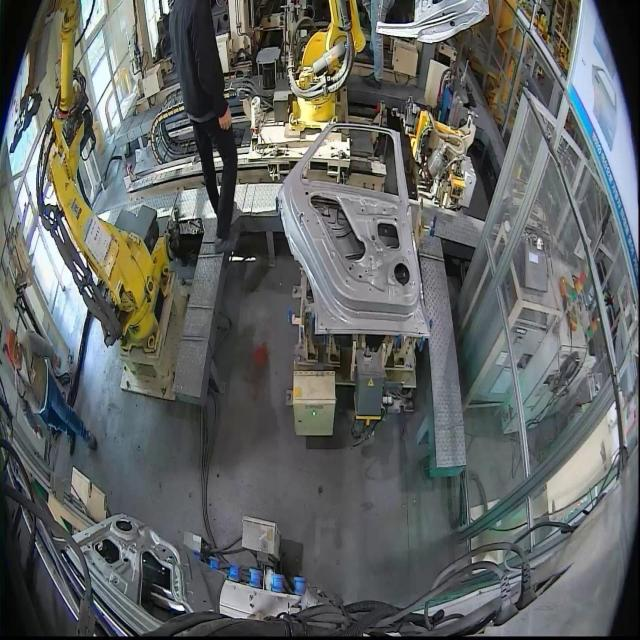Person: (168, 0, 238, 252), (2, 328, 98, 457), (361, 0, 383, 89)
